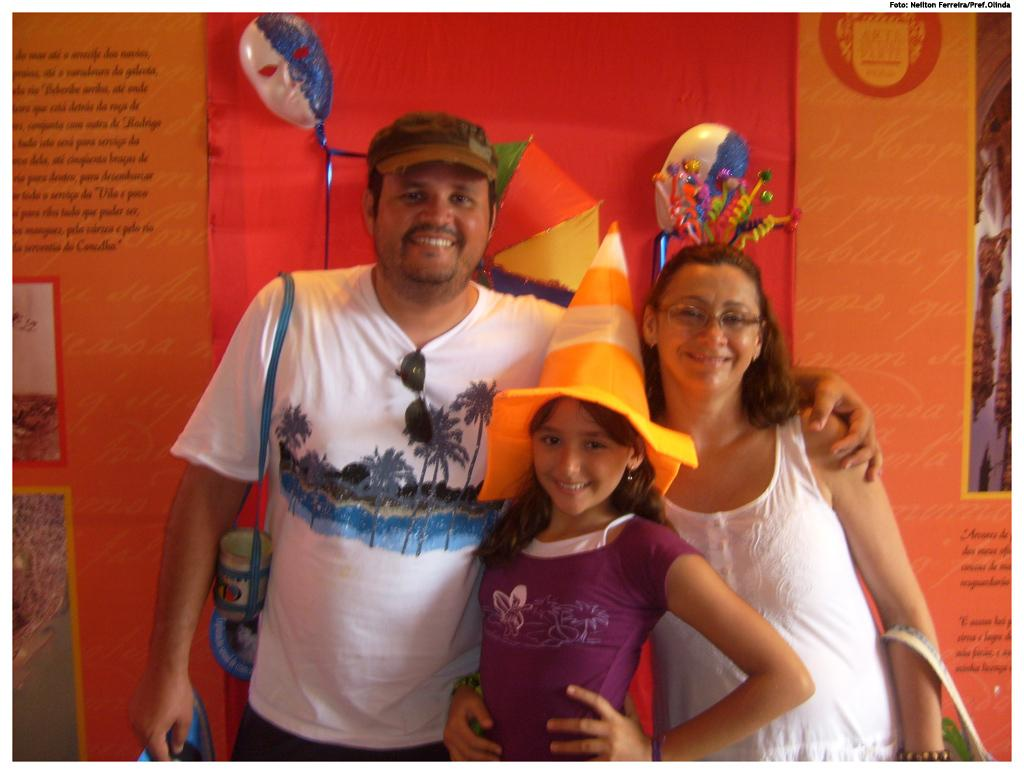Hat: (475, 219, 697, 499), (363, 114, 501, 180)
